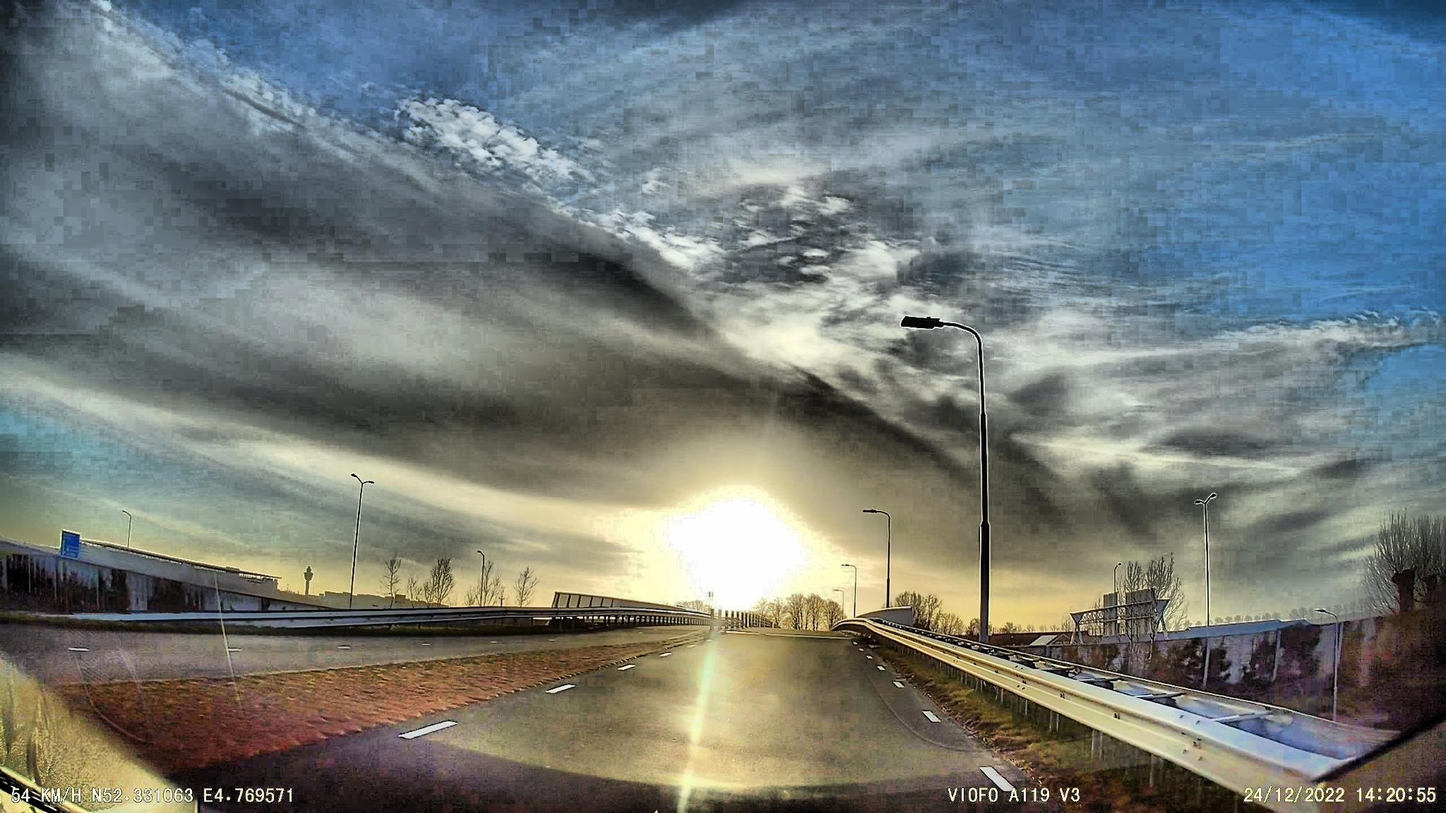Roads: (194, 636, 1051, 813)
